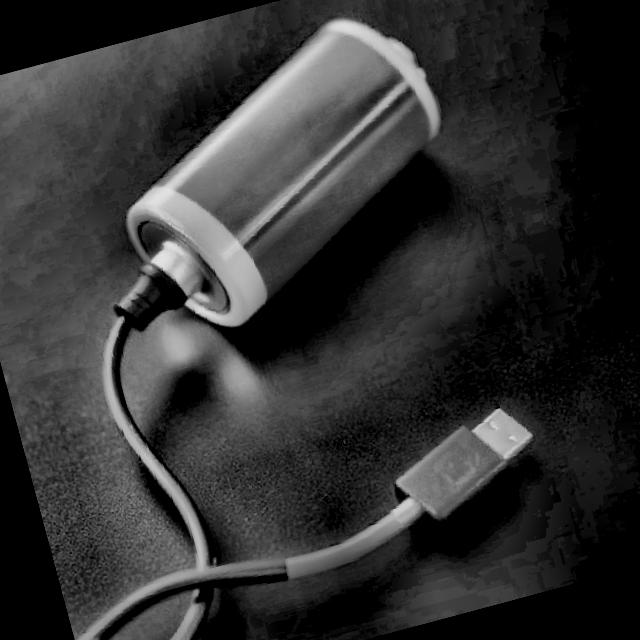Battery: (86, 0, 482, 343)
Cable: (0, 176, 568, 640)
